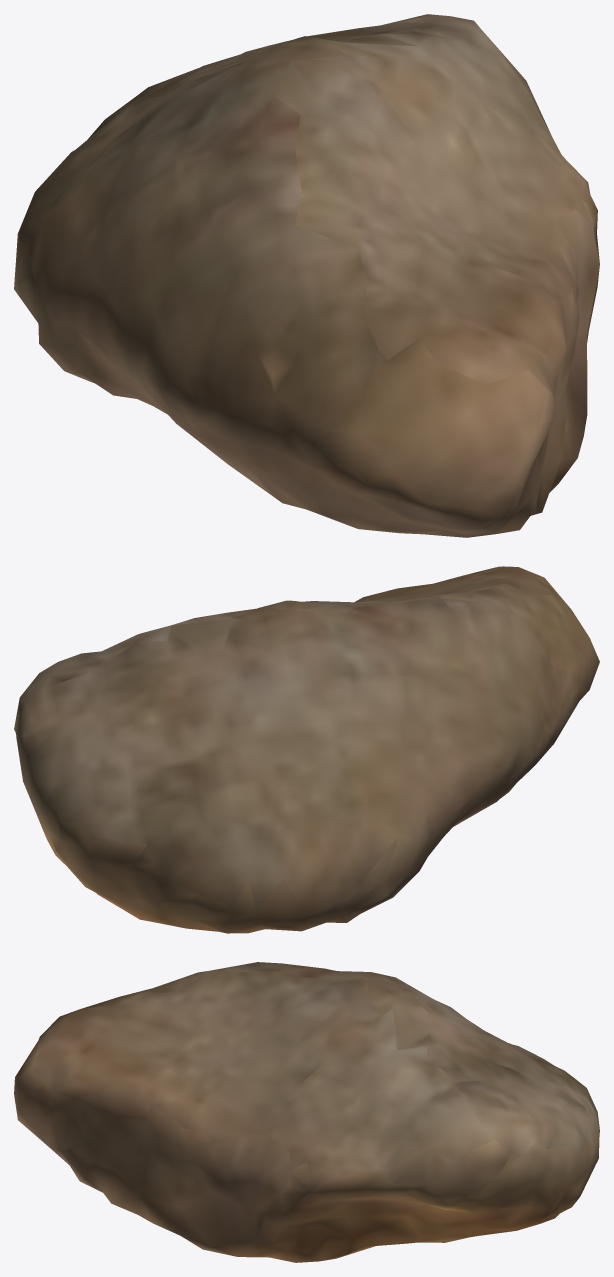
Rendered from ph_rock_1.glb.
The picture shows the model from 3 angles, top to bottom: view 1: azimuth 30°, elevation 25°; view 2: azimuth 150°, elevation 25°; view 3: azimuth 270°, elevation 25°; orthographic projection. The views are drawn at different scales.
Parts seen in each view (by area): view 1: ph_rock_1_lod1; view 2: ph_rock_1_lod1; view 3: ph_rock_1_lod1.
Part boxes in pixels (x1,y1,x2,y2): ph_rock_1_lod1: (14, 14, 599, 537); ph_rock_1_lod1: (14, 566, 599, 933); ph_rock_1_lod1: (14, 962, 599, 1262).
Bounding box in the file's own units: 0.3619 × 0.252 × 0.5499.
1 material, 1 textured.
